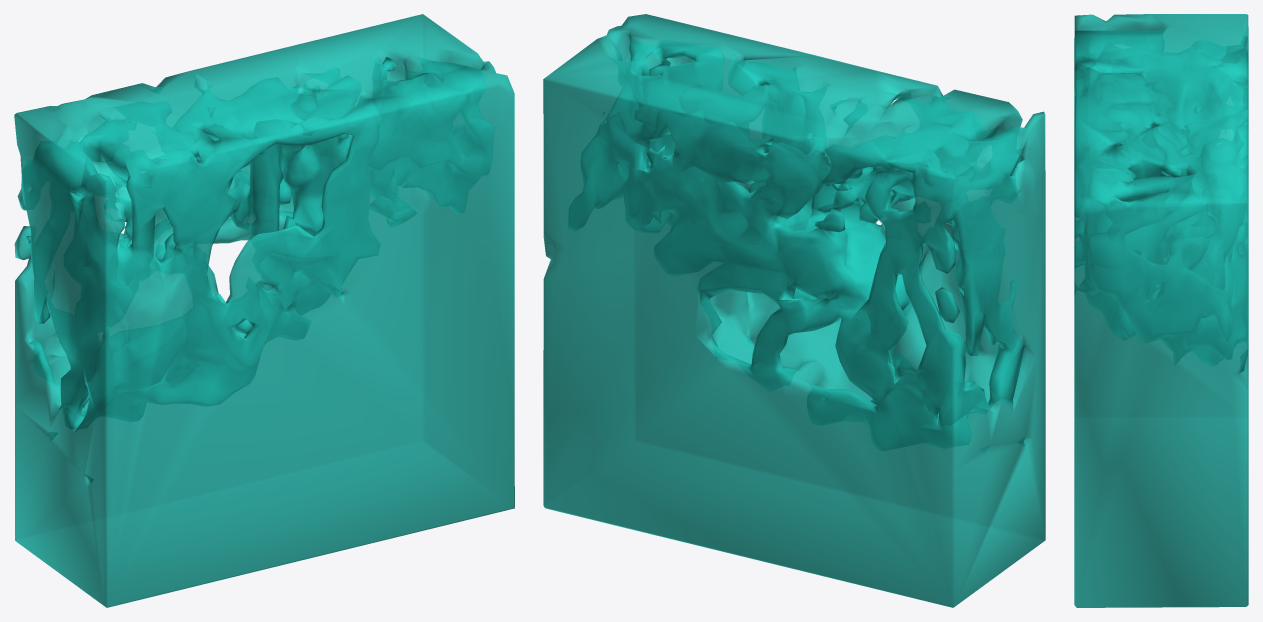
The picture shows the model from 3 angles, left to right: view 1: azimuth 30°, elevation 25°; view 2: azimuth 150°, elevation 25°; view 3: azimuth 270°, elevation 25°; orthographic projection. The views are drawn at different scales.
Visible parts, largest first — view 1: Liquid_Domain; view 2: Liquid_Domain; view 3: Liquid_Domain.
Boxes of the visible parts, left/top/right/bottom form: Liquid_Domain: left=14, top=14, right=514, bottom=607; Liquid_Domain: left=543, top=14, right=1045, bottom=607; Liquid_Domain: left=1074, top=14, right=1248, bottom=607.
Size of the model in its own units: 884 by 884 by 345.
